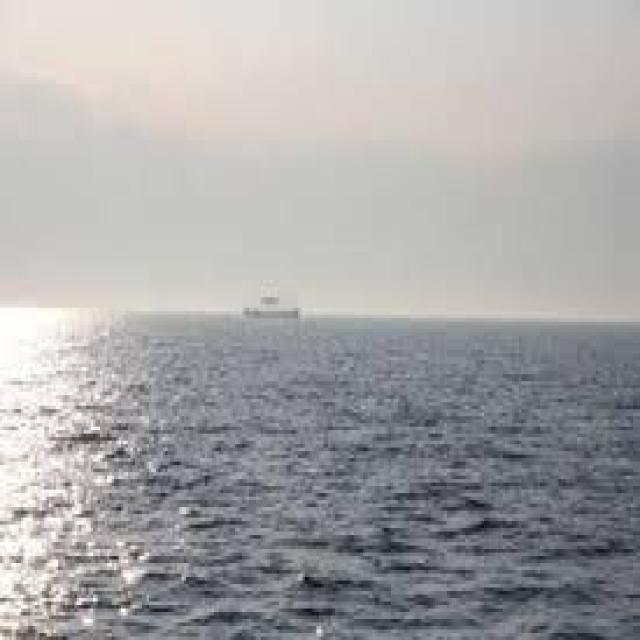fishing boat: (224, 274, 316, 325)
